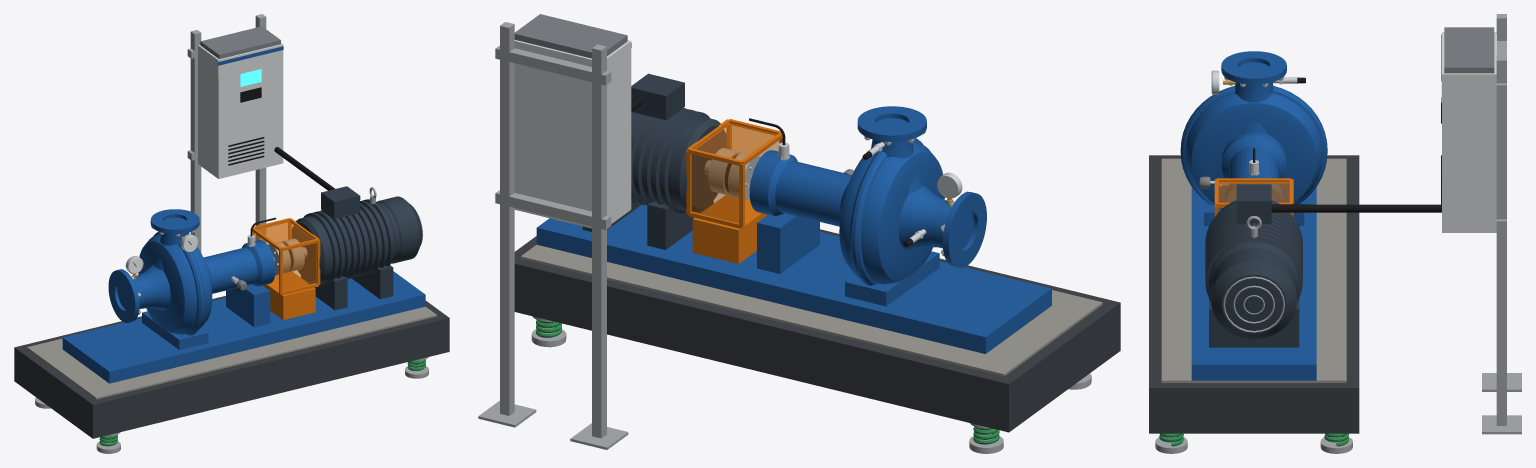
Rendered from pump-pcw.glb.
The picture shows the model from 3 angles, left to right: view 1: azimuth 30°, elevation 25°; view 2: azimuth 150°, elevation 25°; view 3: azimuth 270°, elevation 25°; orthographic projection. The views are drawn at different scales.
Visible parts, largest first — view 1: PCWP_InertiaBase, PCWP_VFD, PCWP_Motor, PCWP_Casing, PCWP_CouplingGuard, PCWP_BearingFrame, PCWP_Coupling; view 2: PCWP_InertiaBase, PCWP_VFD, PCWP_Casing, PCWP_Motor, PCWP_CouplingGuard, PCWP_BearingFrame, PCWP_Coupling; view 3: PCWP_InertiaBase, PCWP_VFD, PCWP_Motor, PCWP_Casing, PCWP_BearingFrame, PCWP_CouplingGuard.
Part boxes in pixels (x1,y1,x2,y2): PCWP_InertiaBase: (14, 271, 449, 453); PCWP_VFD: (187, 14, 334, 252); PCWP_Motor: (291, 186, 422, 310); PCWP_Casing: (108, 209, 212, 349); PCWP_CouplingGuard: (252, 218, 320, 319); PCWP_BearingFrame: (203, 240, 275, 327); PCWP_Coupling: (268, 238, 307, 275); PCWP_InertiaBase: (514, 204, 1120, 453); PCWP_VFD: (478, 14, 642, 449); PCWP_Casing: (839, 106, 986, 306); PCWP_Motor: (582, 73, 726, 249); PCWP_CouplingGuard: (686, 119, 782, 263); PCWP_BearingFrame: (749, 150, 851, 273); PCWP_Coupling: (704, 148, 760, 200); PCWP_InertiaBase: (1149, 155, 1359, 453); PCWP_VFD: (1271, 14, 1521, 434); PCWP_Motor: (1205, 184, 1302, 347); PCWP_Casing: (1180, 51, 1327, 225); PCWP_BearingFrame: (1221, 133, 1286, 202); PCWP_CouplingGuard: (1214, 178, 1293, 216).
Size of the model in its own units: 2.21 by 1.62 by 1.49.
